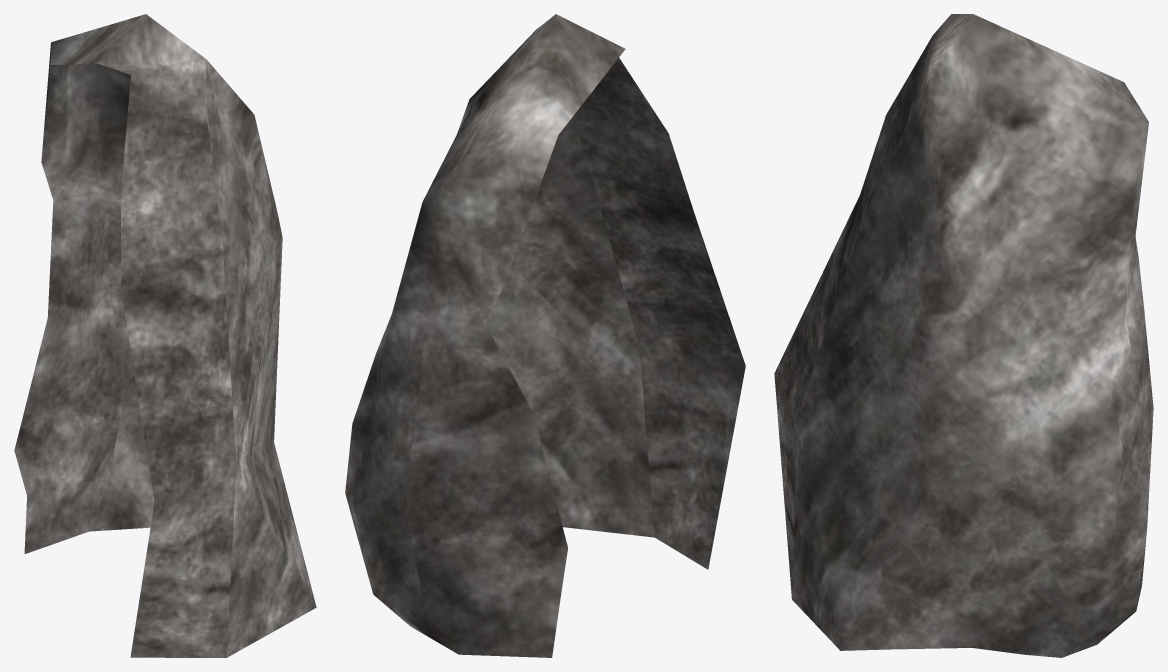
Rendered from wall_rock_tall.fbx.
The picture shows the model from 3 angles, left to right: view 1: azimuth 30°, elevation 25°; view 2: azimuth 150°, elevation 25°; view 3: azimuth 270°, elevation 25°; orthographic projection. The views are drawn at different scales.
Parts seen in each view (by area): view 1: wall_rock_S; view 2: wall_rock_S; view 3: wall_rock_S.
Boxes of the visible parts, x1,y1,x2,y2 form: wall_rock_S: (14, 14, 316, 657); wall_rock_S: (345, 14, 745, 657); wall_rock_S: (774, 14, 1153, 657).
Bounding box in the file's own units: 4.6 × 10.91 × 6.35.
1 material, 1 textured.
